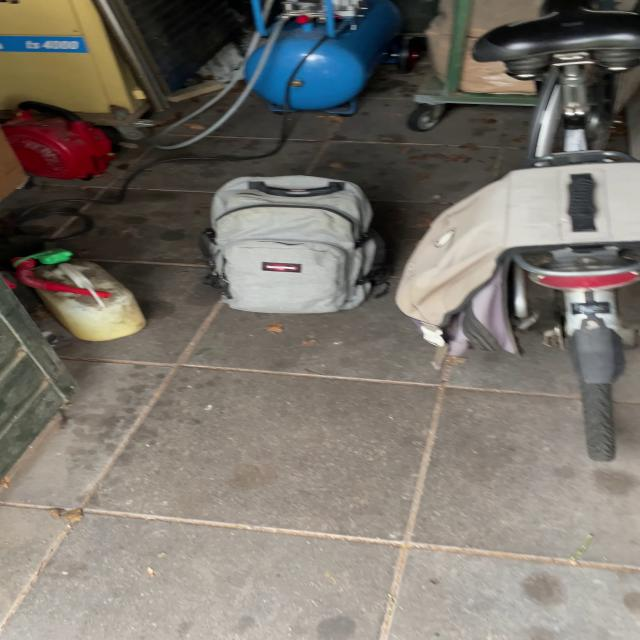backpack: (190, 170, 396, 320)
